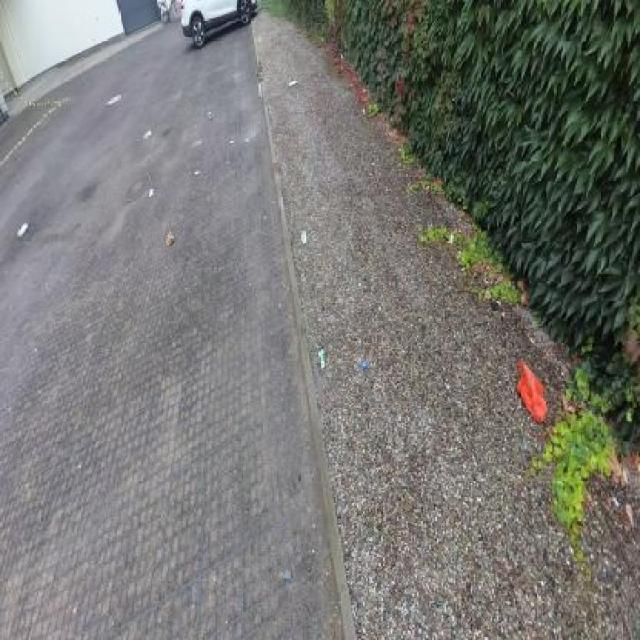Garbage: (515, 361, 548, 424), (18, 222, 28, 241), (317, 345, 325, 368), (166, 232, 174, 247), (300, 231, 307, 244), (143, 130, 151, 139), (359, 359, 368, 367), (259, 57, 262, 81), (289, 79, 297, 86), (258, 81, 261, 98), (149, 188, 153, 200), (274, 159, 277, 171), (194, 170, 199, 175), (230, 138, 234, 144), (208, 111, 210, 118), (245, 138, 249, 141)
